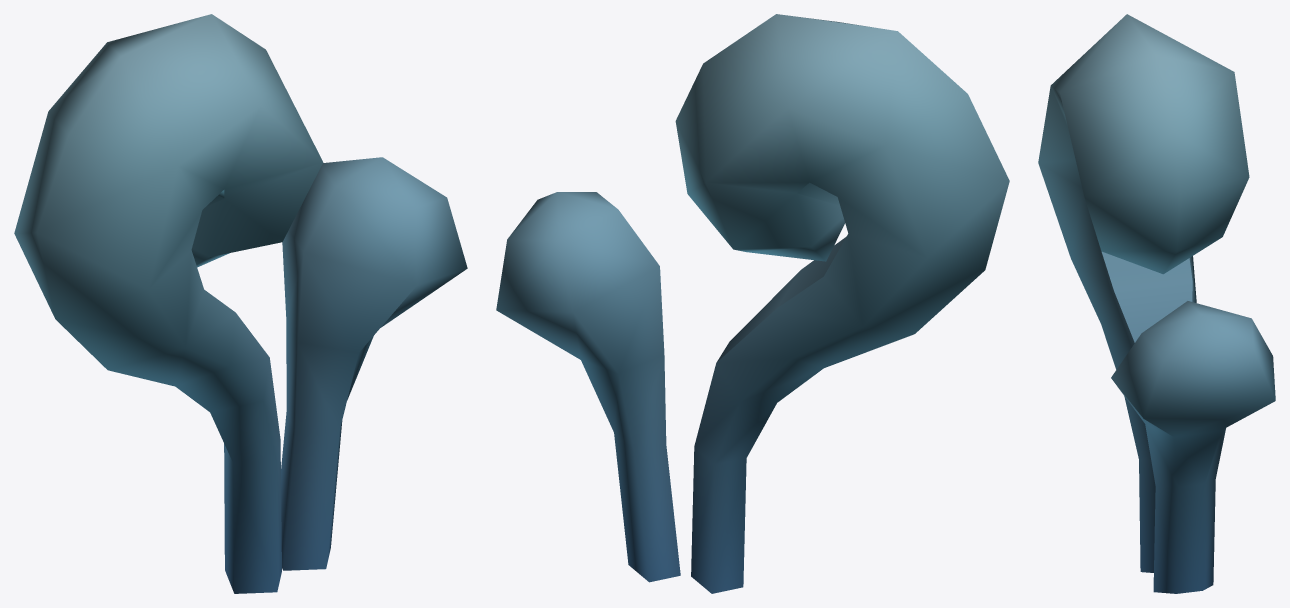
Rendered from prop-nom_lichen_2.glb.
3 renders of one model, left to right at view 1: azimuth 30°, elevation 25°; view 2: azimuth 150°, elevation 25°; view 3: azimuth 270°, elevation 25°, orthographic. The views are drawn at different scales.
Parts seen in each view (by area): view 1: prop-nom_lichen_2; view 2: prop-nom_lichen_2; view 3: prop-nom_lichen_2.
Boxes of the visible parts, x1,y1,x2,y2 form: prop-nom_lichen_2: (14,14,467,593); prop-nom_lichen_2: (496,14,1009,593); prop-nom_lichen_2: (1038,14,1275,593).
Size of the model in its own units: 1.73 by 2.14 by 0.9264.
